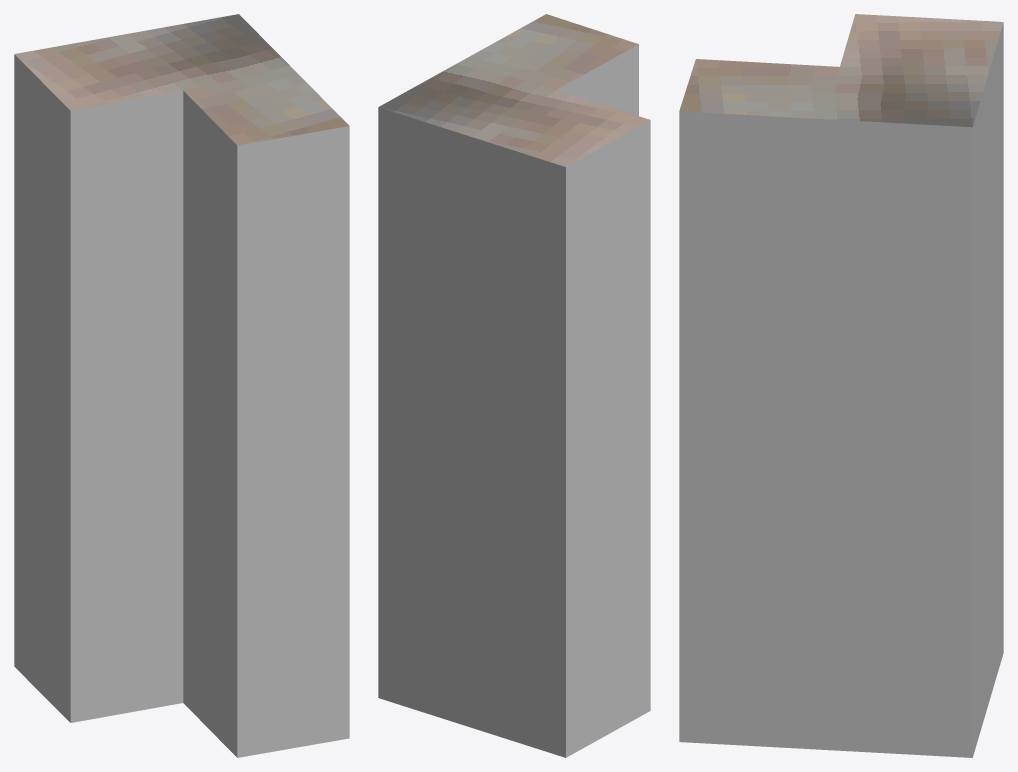
Rendered from DEBW_0010007THVQ.gltf.
3 views of the same model, side by side, from view 1: azimuth 30°, elevation 25°; view 2: azimuth 150°, elevation 25°; view 3: azimuth 270°, elevation 25° (orthographic). The views are drawn at different scales.
Parts seen in each view (by area): view 1: Z_UP; view 2: Z_UP; view 3: Z_UP.
Part boxes in pixels (box(x1,y1,x2,y2)): Z_UP: box(14, 14, 349, 757); Z_UP: box(378, 14, 650, 757); Z_UP: box(679, 14, 1003, 757).
Bounding box in the file's own units: 2.42 × 6.28 × 2.93.
2 materials, 1 textured.
